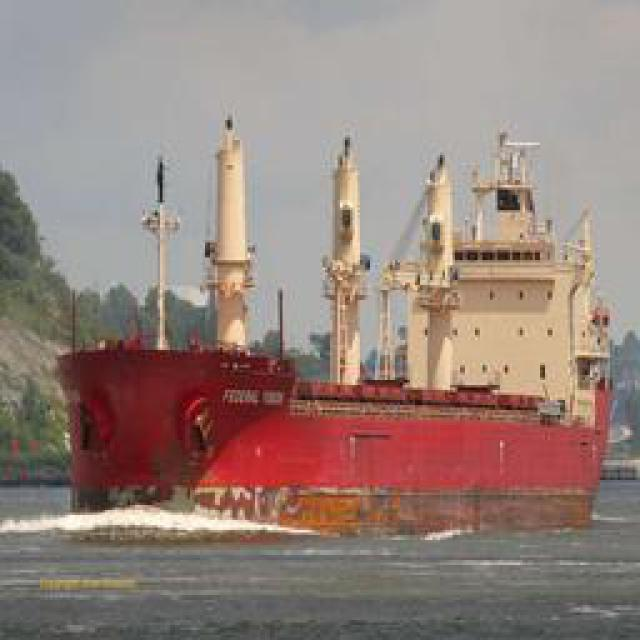Ship: (171, 116, 609, 516)
